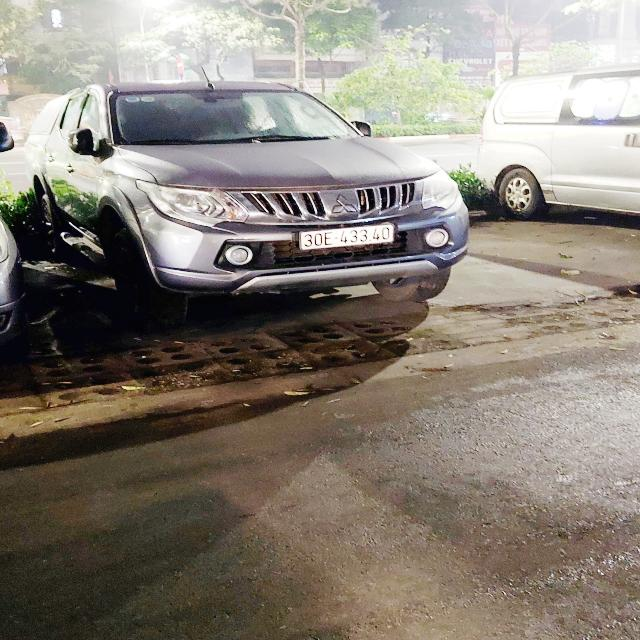license_plate: (301, 223, 397, 252)
